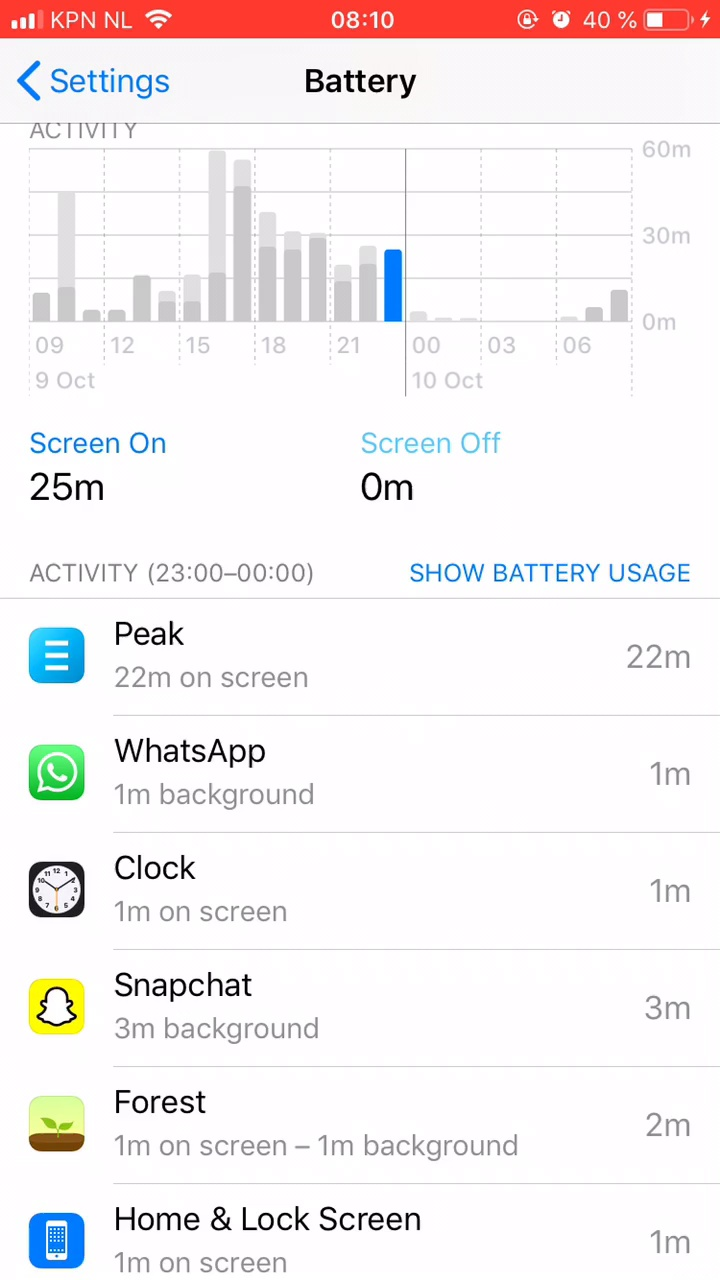activity: (24, 541, 333, 590)
app: (23, 616, 711, 698), (26, 729, 714, 811), (19, 852, 707, 934), (20, 969, 708, 1051), (14, 1079, 702, 1161), (12, 1191, 700, 1273)
